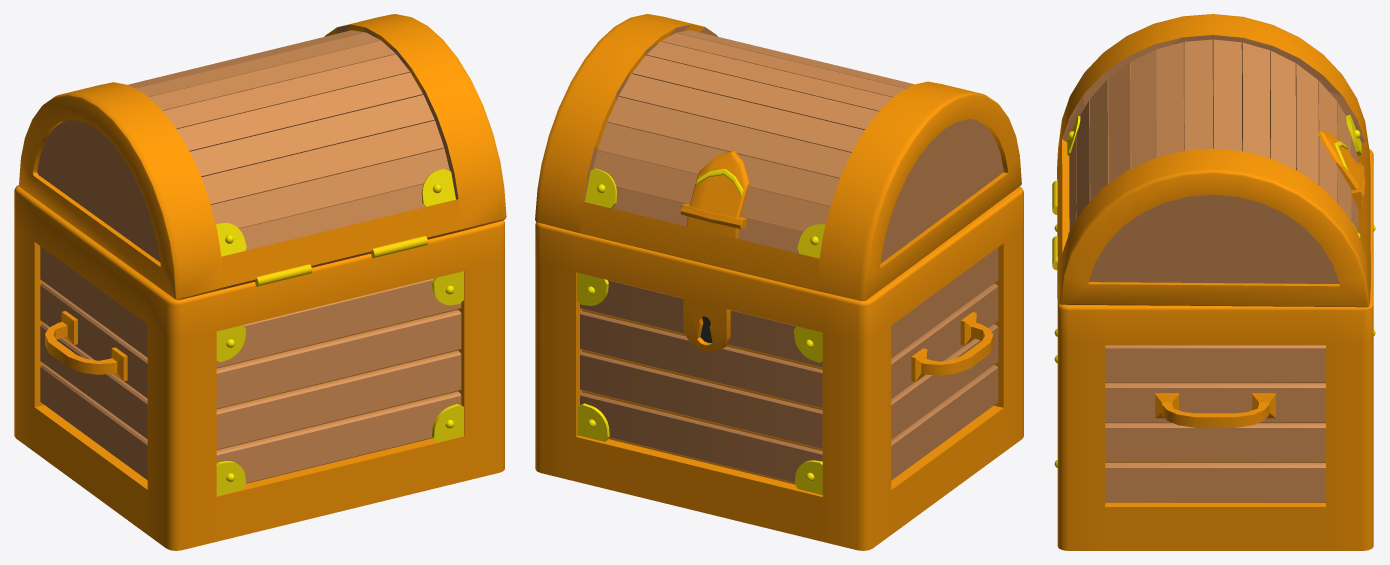
The model's file is chest.glb.
3 renders of one model, left to right at view 1: azimuth 30°, elevation 25°; view 2: azimuth 150°, elevation 25°; view 3: azimuth 270°, elevation 25°, orthographic. The views are drawn at different scales.
Visible parts, largest first — view 1: Chest_Bottom, Chest_Up; view 2: Chest_Bottom, Chest_Up; view 3: Chest_Up, Chest_Bottom.
Part boxes in pixels (x1,y1,x2,y2): Chest_Bottom: (14, 185, 504, 550); Chest_Up: (19, 14, 506, 299); Chest_Bottom: (535, 186, 1023, 550); Chest_Up: (535, 14, 1021, 300); Chest_Up: (1057, 14, 1370, 307); Chest_Bottom: (1052, 149, 1375, 550).
Size of the model in its own units: 0.7736 by 0.7162 by 0.5523.
1 material, 1 textured.
